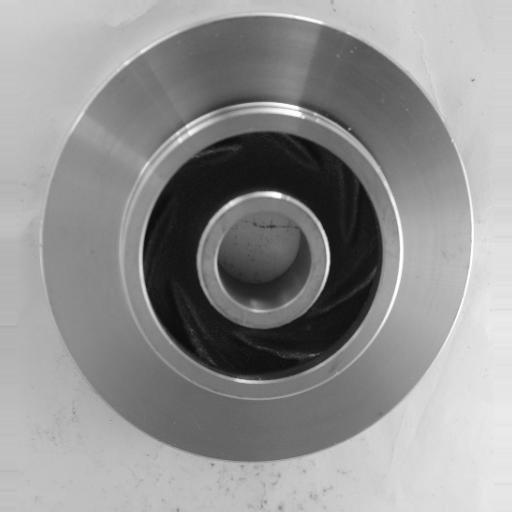polished_casting: (42, 14, 474, 466)
